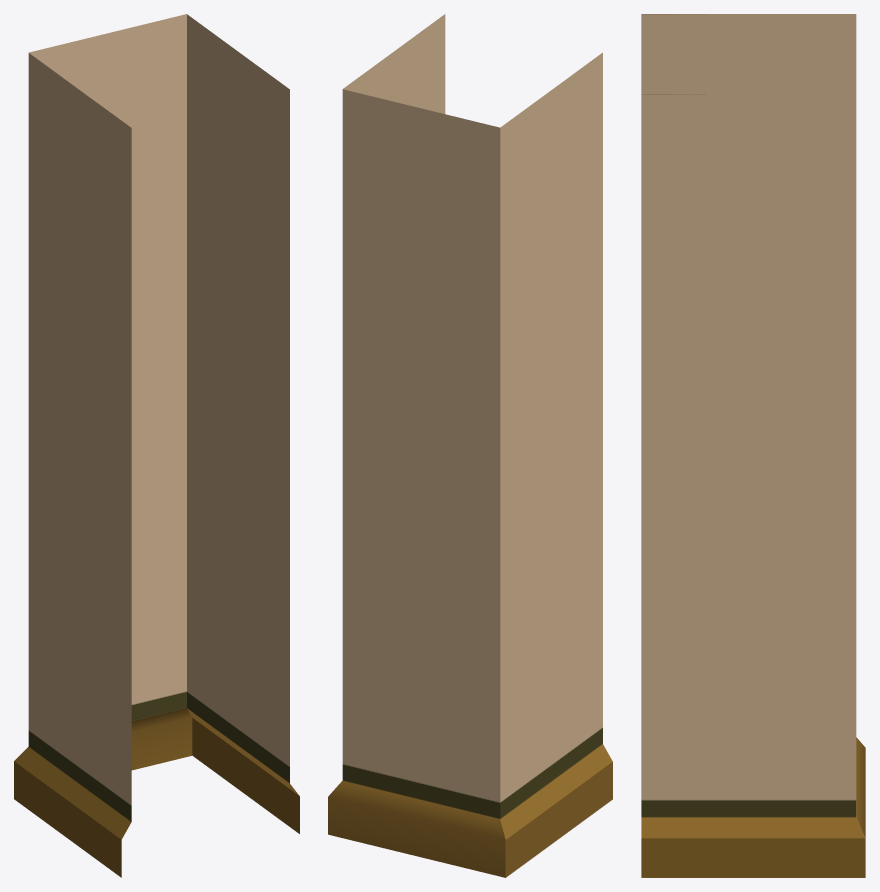
The model's file is pillar.fbx.
3 views of the same model, side by side, from view 1: azimuth 30°, elevation 25°; view 2: azimuth 150°, elevation 25°; view 3: azimuth 270°, elevation 25° (orthographic). The views are drawn at different scales.
Parts seen in each view (by area): view 1: Pillar; view 2: Pillar; view 3: Pillar.
Boxes of the visible parts, x1,y1,x2,y2 form: Pillar: (14, 14, 299, 877); Pillar: (328, 14, 612, 877); Pillar: (641, 14, 865, 877).
Size of the model in its own units: 99.88 by 400 by 104.
1 material, 1 textured.
